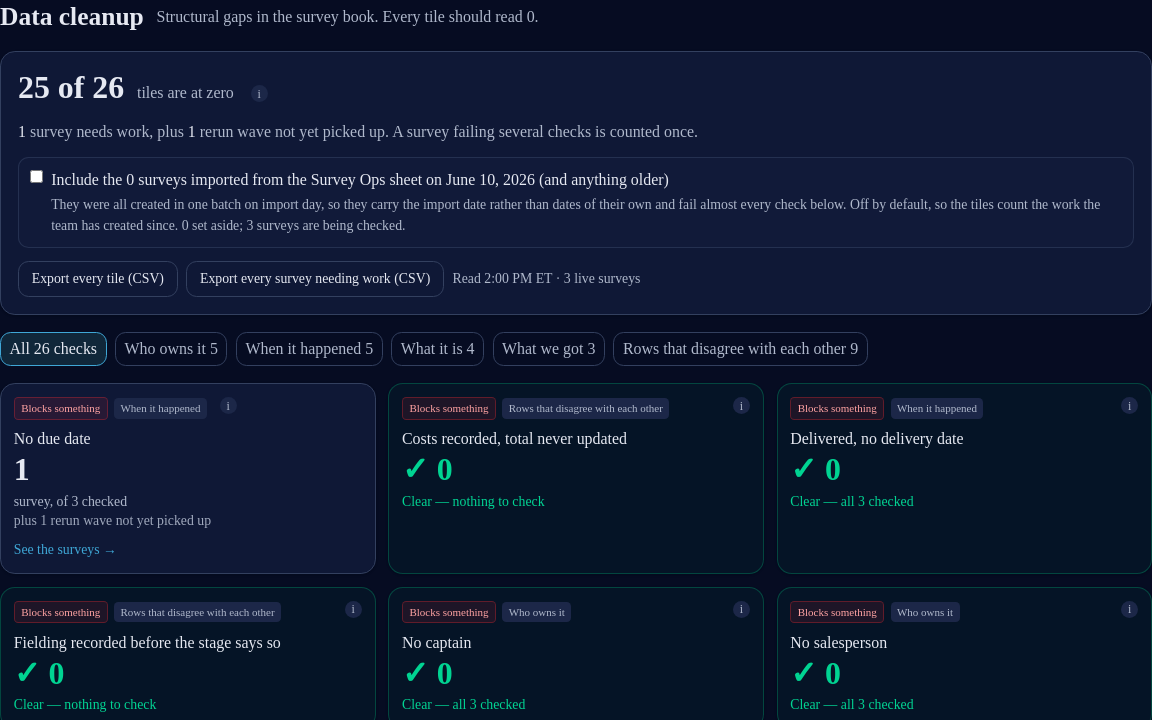
Test: the drill › closes on Escape
Click the button named "Open the 2 surveys behind \"No due date\"" at (61, 408), box [0,383,376,574]
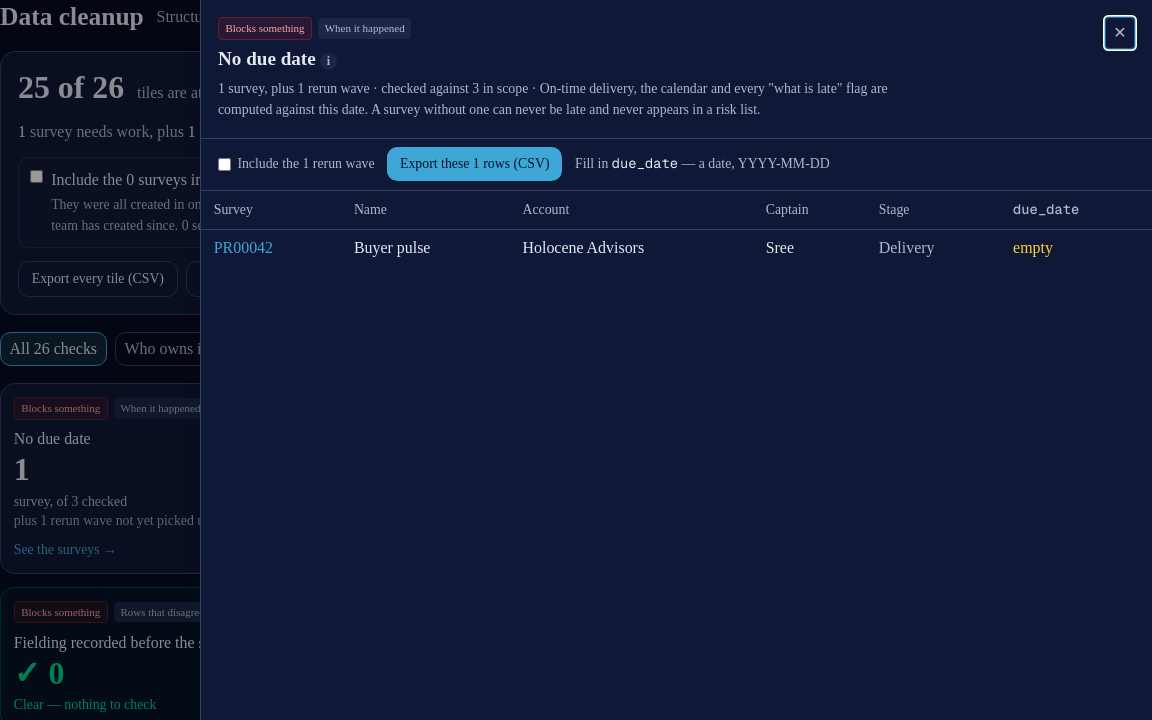
Expected: the dialog is shown
Press Escape
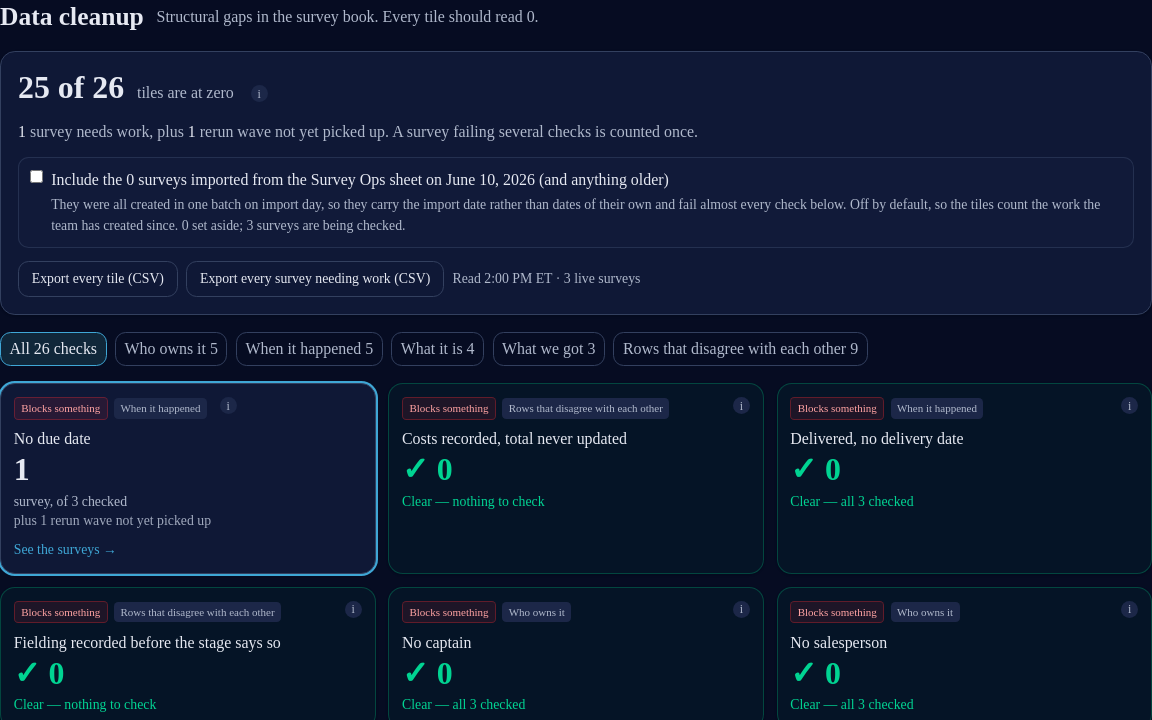
Expected: the dialog is gone
